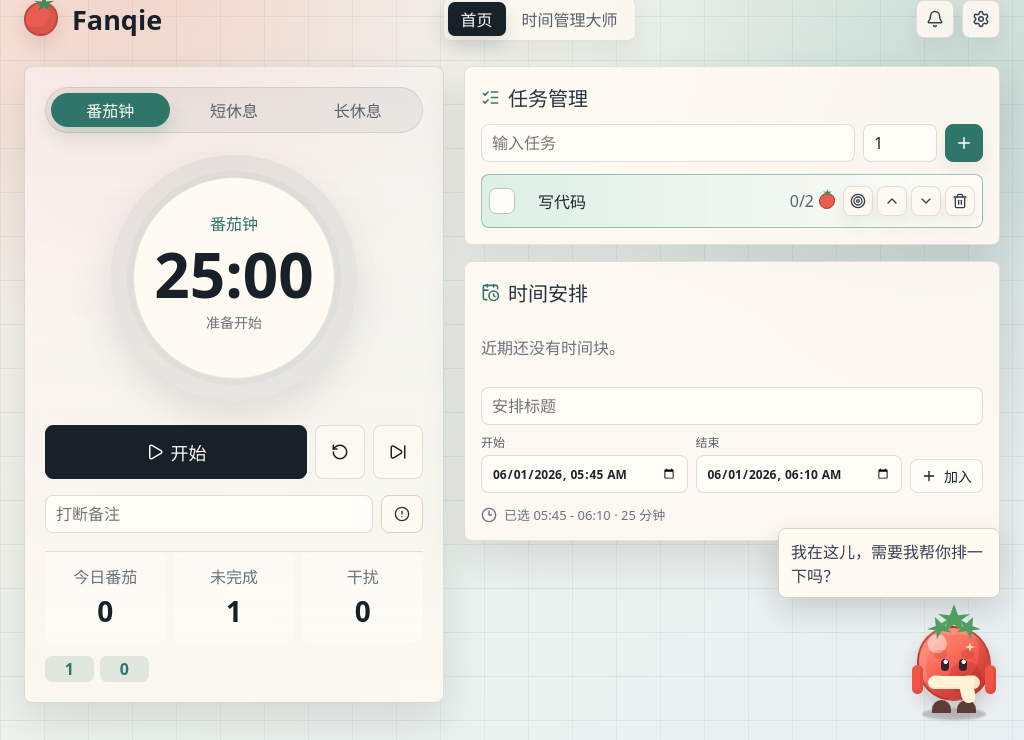
it: App › switches the idle timer mode before starting
Expected: the text "25:00" is shown, [154,244,314,303]
Click the button "长休息" at (358, 110), box [298,93,417,127]
(page scrolled)
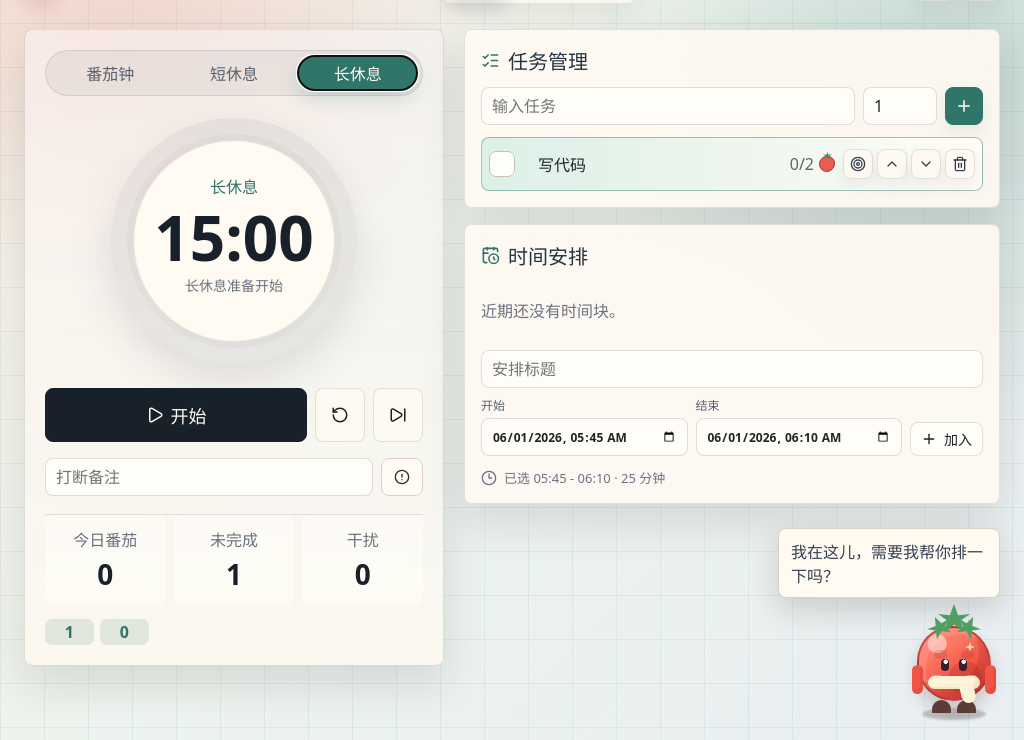
Expected: the text "15:00" is shown, [154,208,314,266]
Expected: the text "长休息准备开始" is shown, [185,276,283,295]
